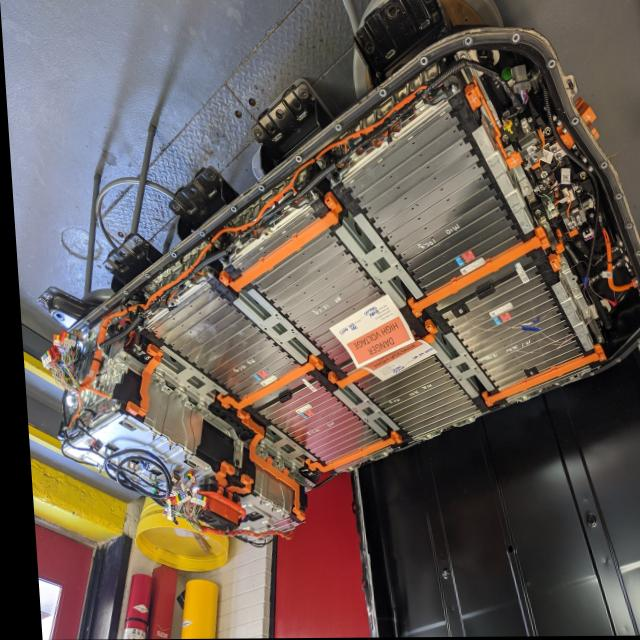Aluminum-frame: (333, 215, 419, 311), (229, 288, 315, 364), (471, 127, 530, 236), (428, 332, 489, 401), (151, 348, 223, 404), (140, 386, 196, 450), (328, 383, 392, 439), (547, 282, 589, 353), (253, 427, 310, 470), (248, 470, 285, 510)
Battery Module: (340, 109, 515, 294), (248, 228, 398, 371), (436, 263, 575, 390), (144, 285, 294, 396), (348, 346, 474, 438), (251, 380, 375, 464)
Bolt: (565, 223, 574, 233), (579, 309, 587, 320), (314, 157, 322, 168), (101, 369, 110, 378), (209, 240, 217, 250), (64, 394, 70, 407), (458, 53, 466, 62), (557, 260, 563, 271), (520, 184, 527, 193), (569, 286, 575, 296), (504, 149, 511, 157), (553, 154, 560, 162), (531, 156, 538, 164), (591, 338, 599, 345), (256, 523, 264, 530), (574, 219, 580, 228), (549, 148, 556, 155), (526, 150, 534, 156), (230, 441, 235, 447)
Bus-bar: (404, 228, 547, 318), (214, 198, 339, 294), (476, 347, 601, 407), (323, 325, 433, 388), (217, 354, 317, 411), (464, 80, 521, 169), (303, 431, 395, 473), (120, 345, 158, 417), (219, 475, 247, 501), (209, 462, 227, 496)
Cable: (92, 84, 425, 338), (194, 528, 285, 540)
Nut: (115, 349, 127, 367), (129, 339, 140, 354), (448, 81, 458, 95), (307, 189, 316, 203), (326, 176, 336, 188), (144, 431, 153, 443), (299, 481, 309, 491), (499, 134, 508, 145), (542, 128, 551, 138), (107, 400, 116, 410), (576, 172, 584, 182), (174, 451, 182, 461), (148, 376, 157, 384), (261, 503, 268, 513), (532, 212, 539, 222), (191, 404, 197, 415), (250, 497, 257, 506), (273, 511, 280, 520), (161, 442, 167, 452), (90, 466, 96, 476), (253, 447, 258, 457), (170, 393, 177, 400), (268, 459, 274, 467), (284, 471, 289, 479), (595, 219, 600, 224)
Screw: (227, 459, 234, 474), (586, 212, 592, 220), (526, 118, 531, 124), (539, 187, 543, 193)
